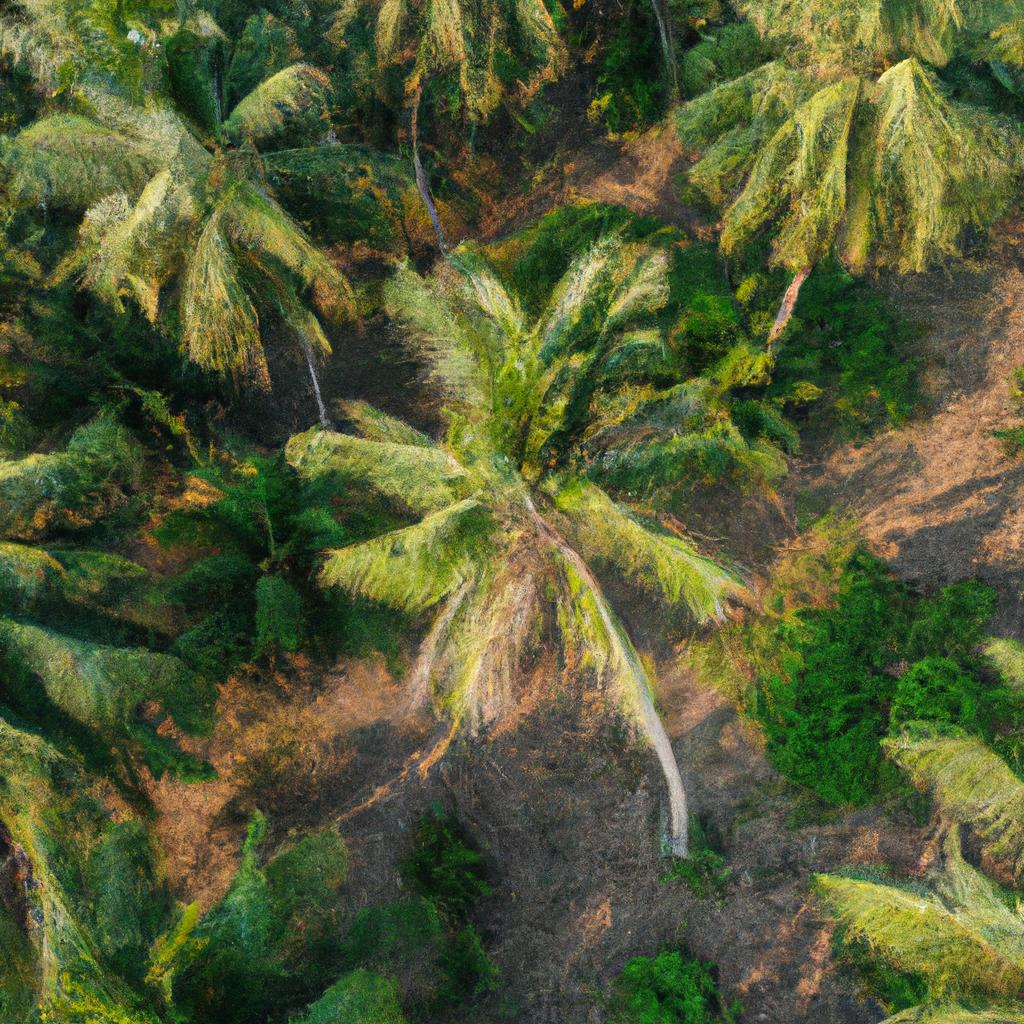coconut_tree: (268, 218, 808, 862), (5, 48, 387, 393)
